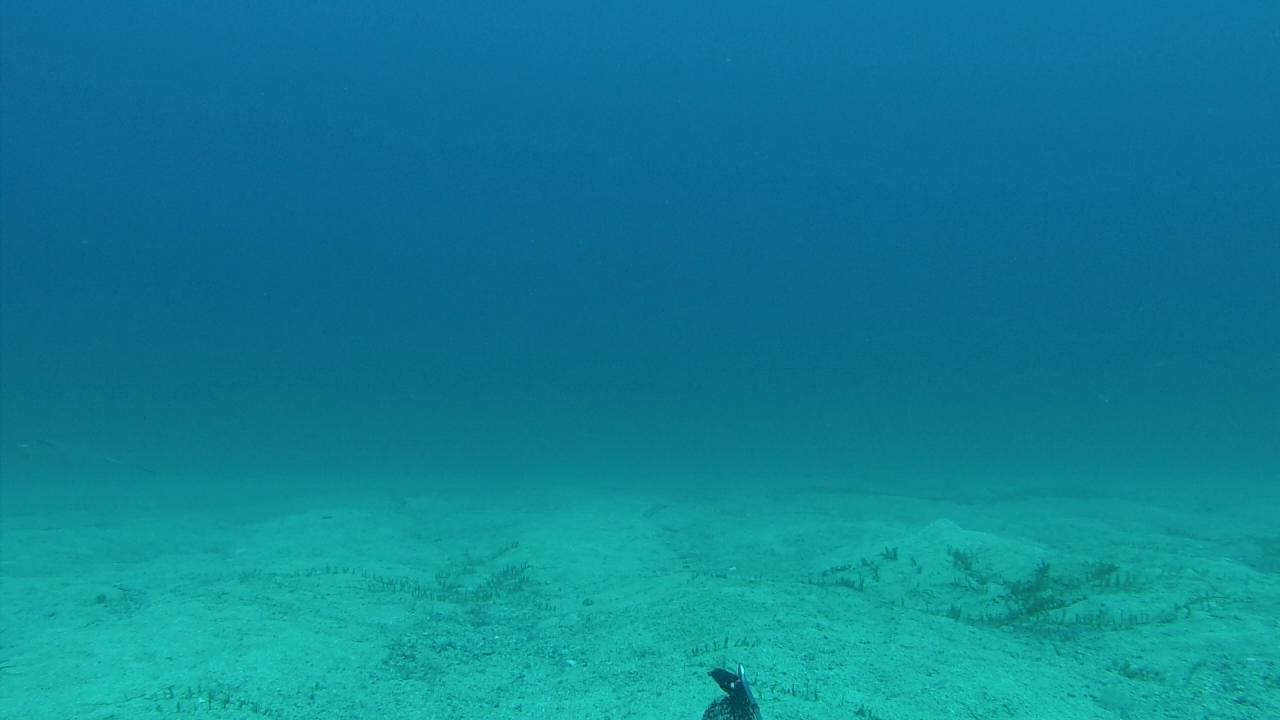dasyatis: (17, 434, 155, 476)
